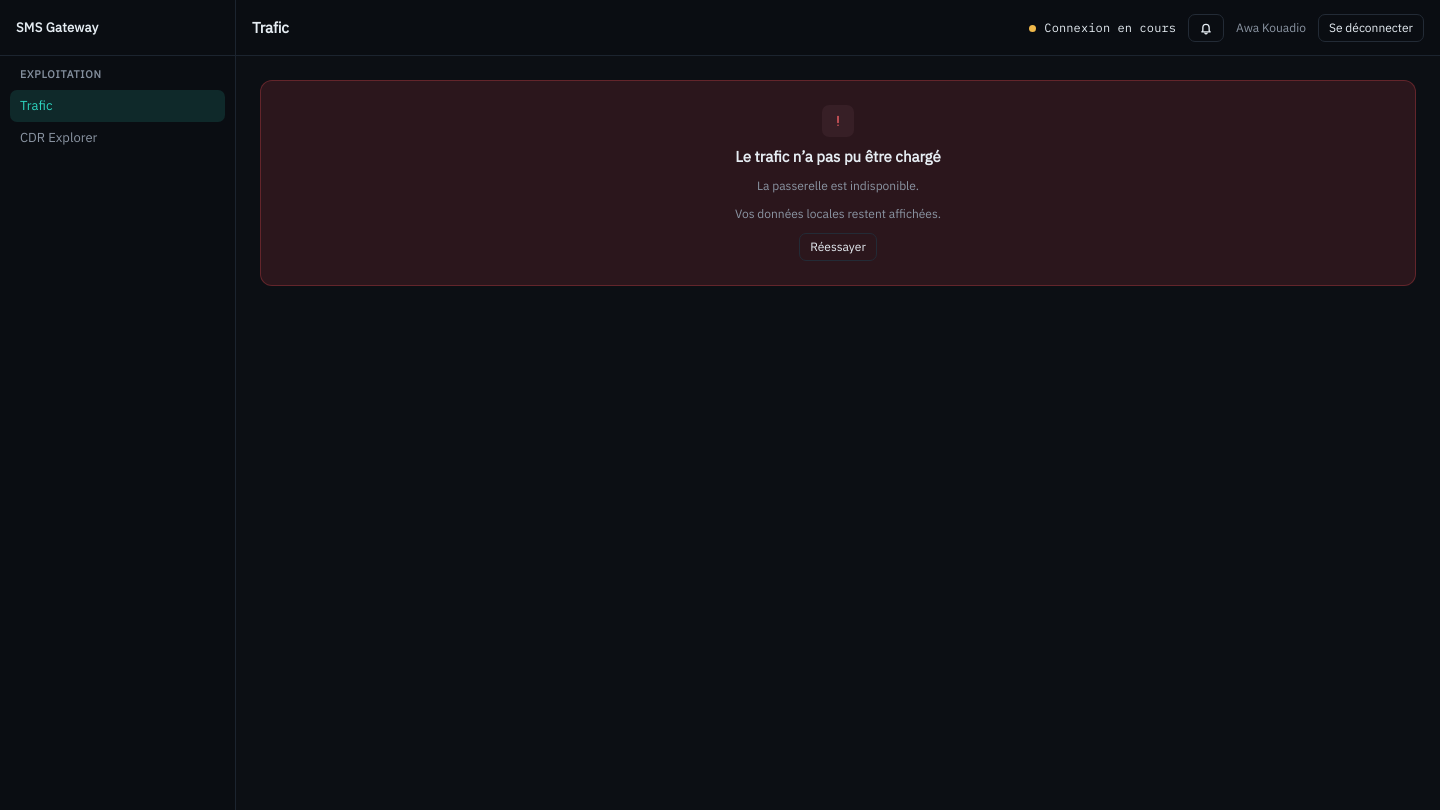
Scenario: the traffic screen › reads the figures again when the retry is used
This screenshot has width=1440, height=810.
Click the button "Réessayer" at (838, 246), box x1=799 y1=232 x2=877 y2=260
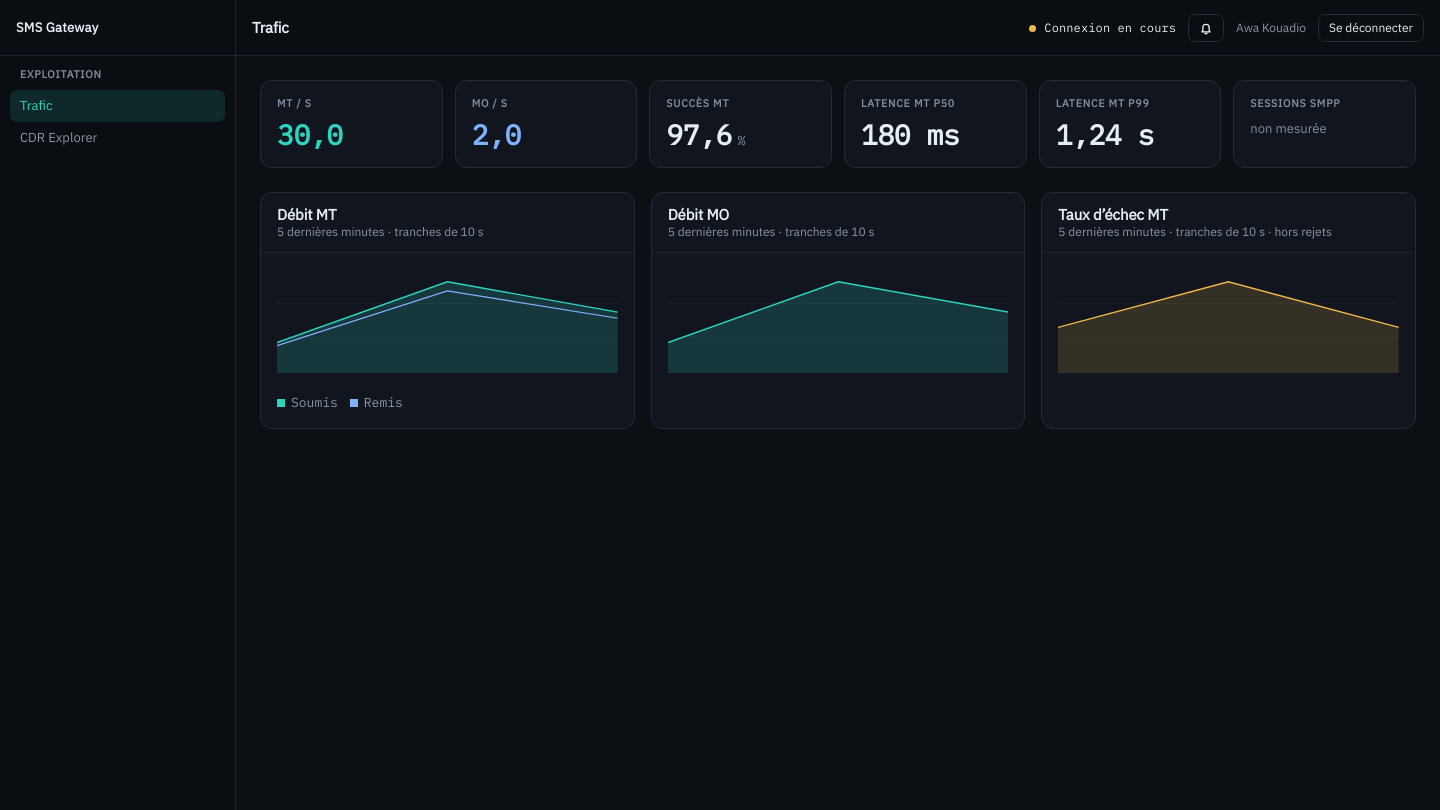
Now the text "30,0" is shown, box x1=277 y1=116 x2=342 y2=153
